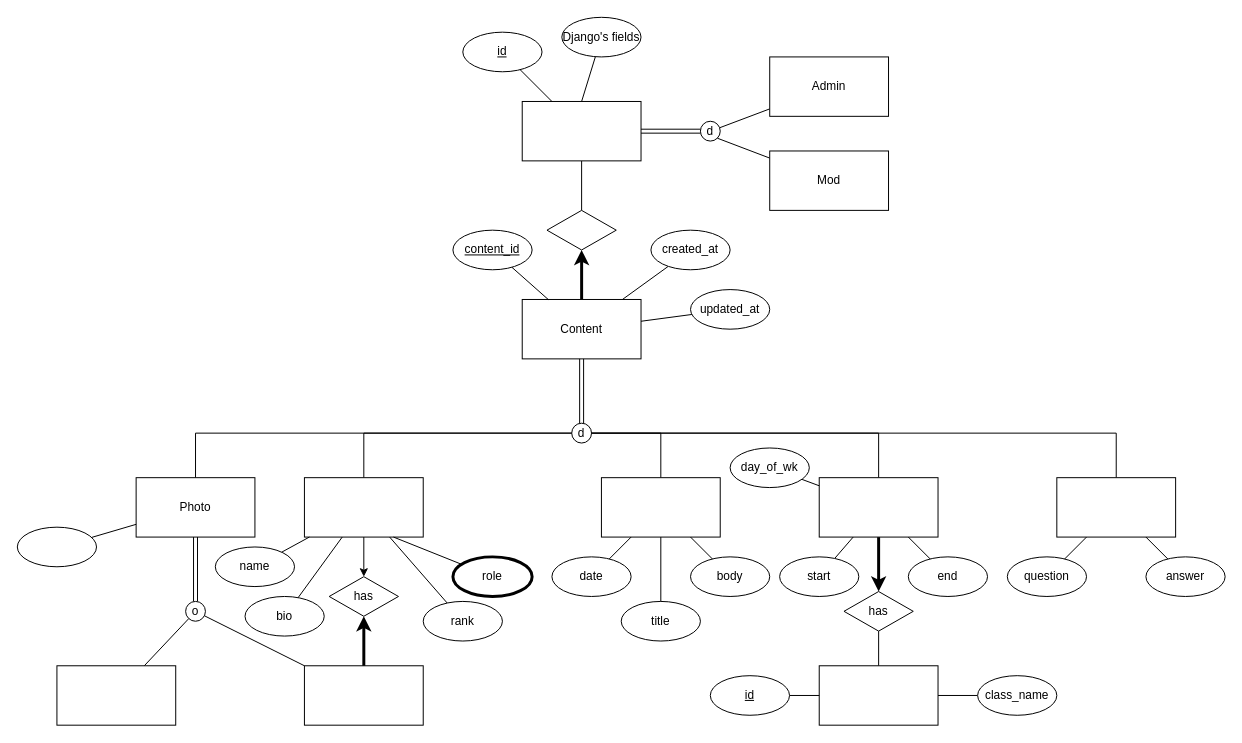
Some shapes in this 1242 by 743 pixel diagram are drawn without their labels. Each missing label, with the centre of its shape:
"Annoucement" belongs at point 660,507.
"Class_Type" belongs at point 878,695.
"Dojo" belongs at point 116,695.
"FAQ" belongs at point 1116,507.
"Instructor" belongs at point 363,507.
"Portrait" belongs at point 363,695.
"posts" belongs at point 581,229.
"Schedule" belongs at point 878,507.
"src_link" belongs at point 56,546.
"User" belongs at point 581,130.
